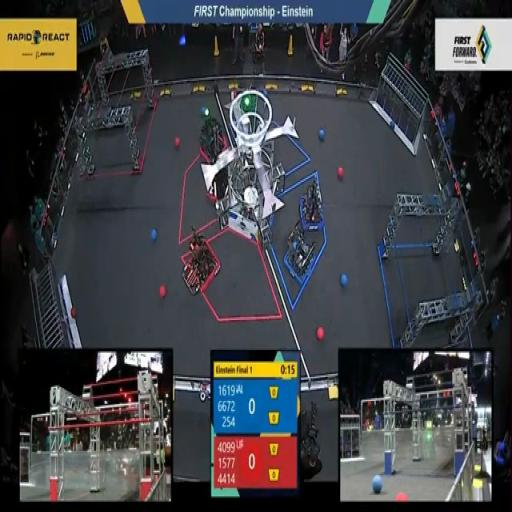robot: (176, 223, 222, 300), (278, 222, 318, 289), (195, 107, 233, 169), (294, 176, 328, 234), (198, 155, 232, 211)
